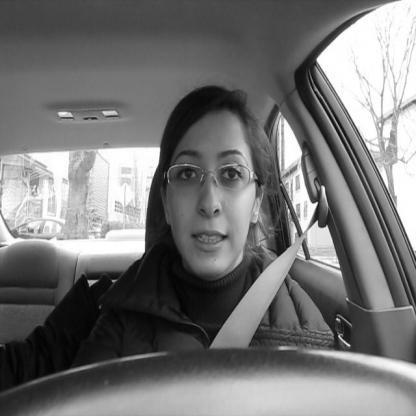seatbelt: (123, 65, 292, 416)
